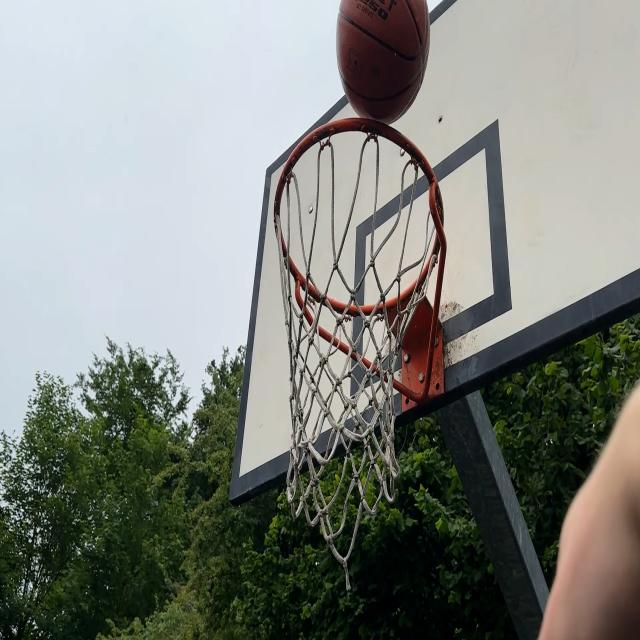rebound_hit: (336, 0, 429, 139)
